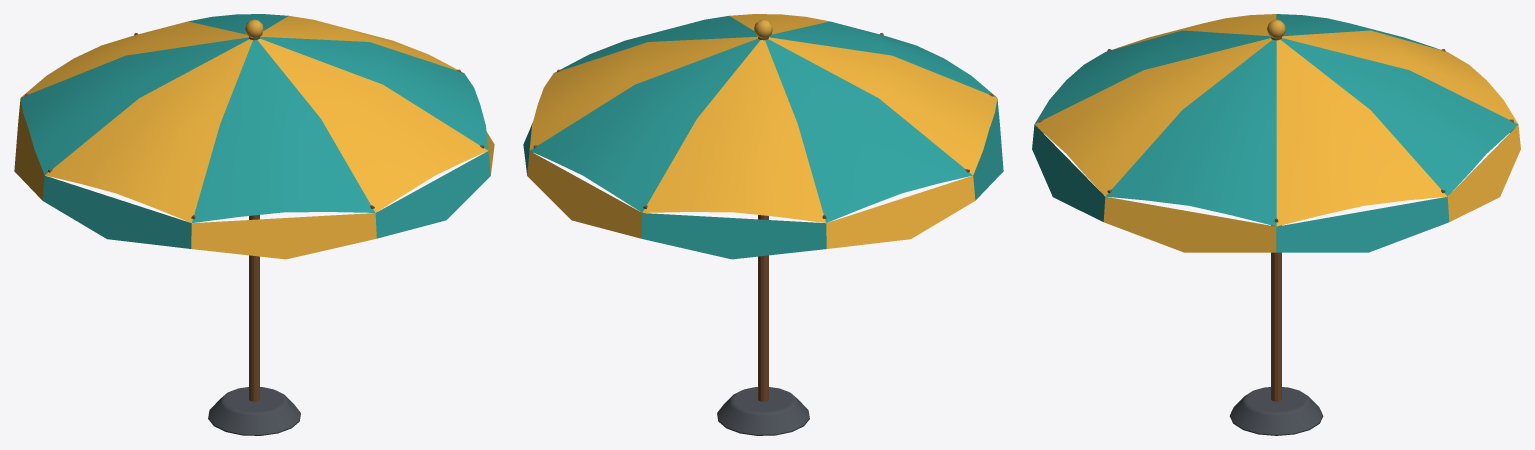
The model's file is mk_parasol_teal.glb.
The picture shows the model from 3 angles, left to right: view 1: azimuth 30°, elevation 25°; view 2: azimuth 150°, elevation 25°; view 3: azimuth 270°, elevation 25°; orthographic projection.
Visible parts, largest first — view 1: mk_parasol_teal_body; view 2: mk_parasol_teal_body; view 3: mk_parasol_teal_body.
Part boxes in pixels (x1,y1,x2,y2): mk_parasol_teal_body: (14, 14, 494, 435); mk_parasol_teal_body: (523, 14, 1003, 435); mk_parasol_teal_body: (1032, 14, 1520, 435).
Bounding box in the file's own units: 3.03 × 2.71 × 3.03.
